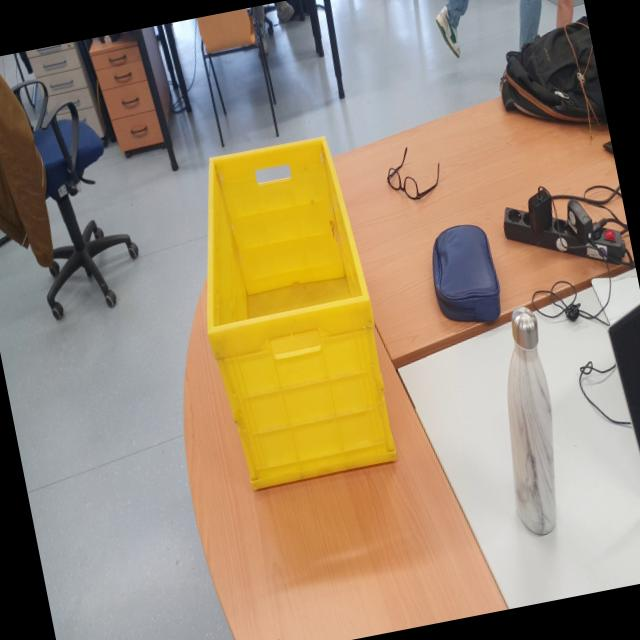box: (166, 112, 423, 530), (420, 491, 422, 496)
